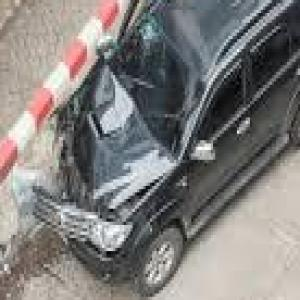significant: (28, 0, 300, 300)
